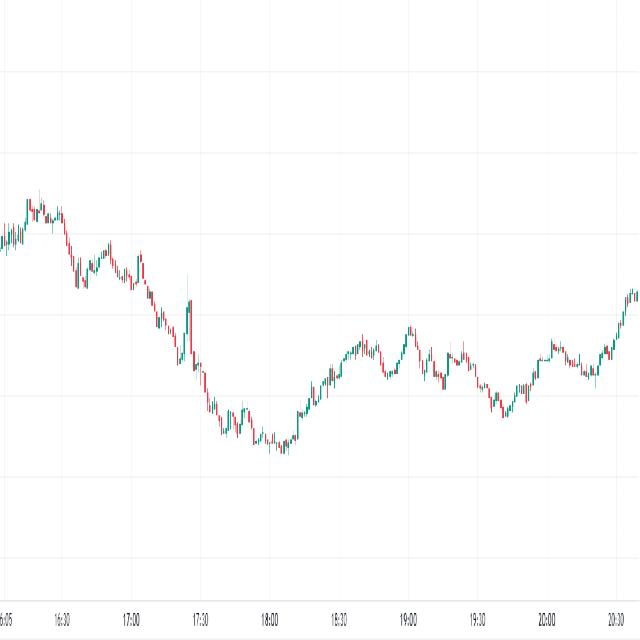Channel-down: (98, 203, 295, 498)
Falling-Wedge: (391, 299, 458, 412)
